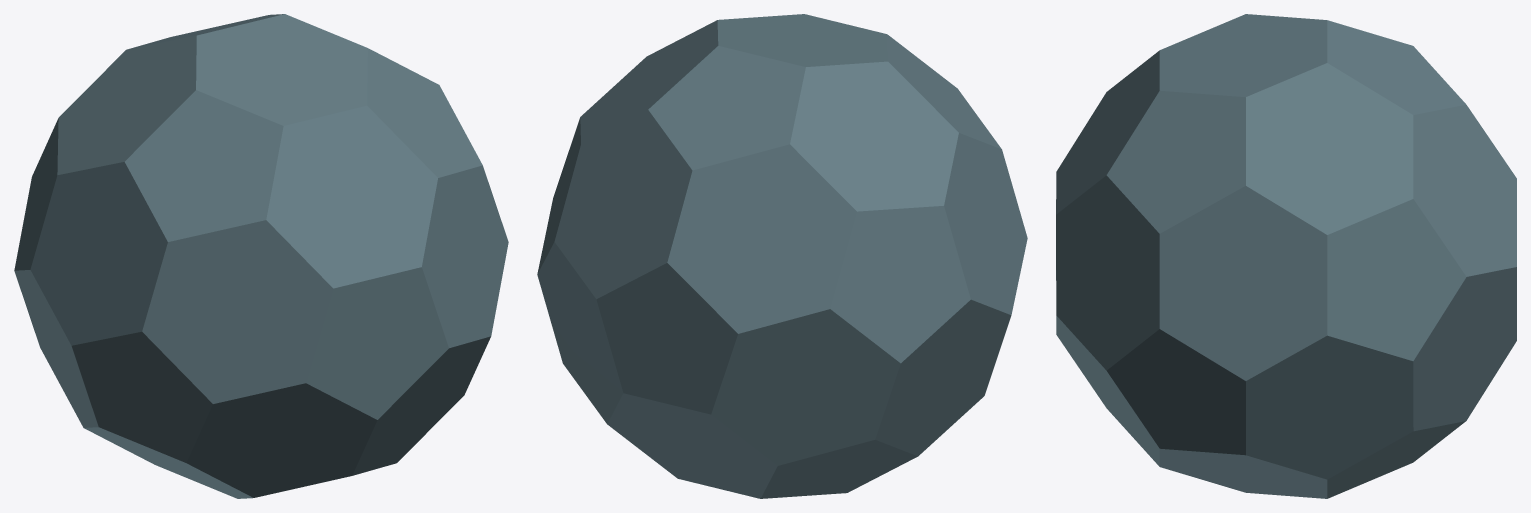
Rendered from bucky.glb.
3 views of the same model, side by side, from view 1: azimuth 30°, elevation 25°; view 2: azimuth 150°, elevation 25°; view 3: azimuth 270°, elevation 25° (orthographic).
Visible parts, largest first — view 1: Bucky; view 2: Bucky; view 3: Bucky.
Part boxes in pixels (x1,y1,x2,y2): Bucky: [14, 14, 508, 498]; Bucky: [537, 14, 1027, 498]; Bucky: [1056, 14, 1516, 498].
Size of the model in its own units: 1.93 by 1.89 by 1.84.
